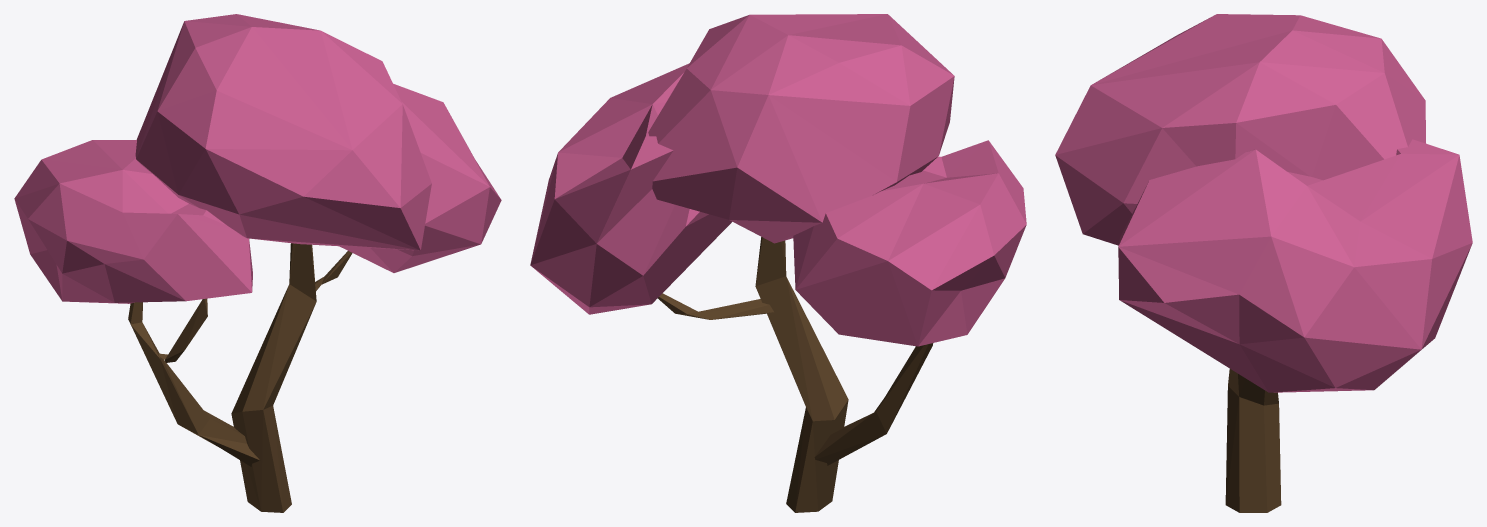
The model's file is MagnoliaSmall.fbx.
3 views of the same model, side by side, from view 1: azimuth 30°, elevation 25°; view 2: azimuth 150°, elevation 25°; view 3: azimuth 270°, elevation 25° (orthographic). The views are drawn at different scales.
Visible parts, largest first — view 1: Magnolia_small; view 2: Magnolia_small; view 3: Magnolia_small.
Boxes of the visible parts, <box> form: Magnolia_small: <box>14,14,501,512</box>; Magnolia_small: <box>530,14,1026,512</box>; Magnolia_small: <box>1055,14,1472,512</box>.
Size of the model in its own units: 1.13 by 1.14 by 0.9099.
